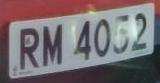0: (91, 15, 116, 61)
2: (131, 9, 151, 54)
4: (71, 16, 93, 67)
5: (112, 12, 132, 57)
M: (40, 22, 66, 70)
R: (14, 25, 42, 73)
